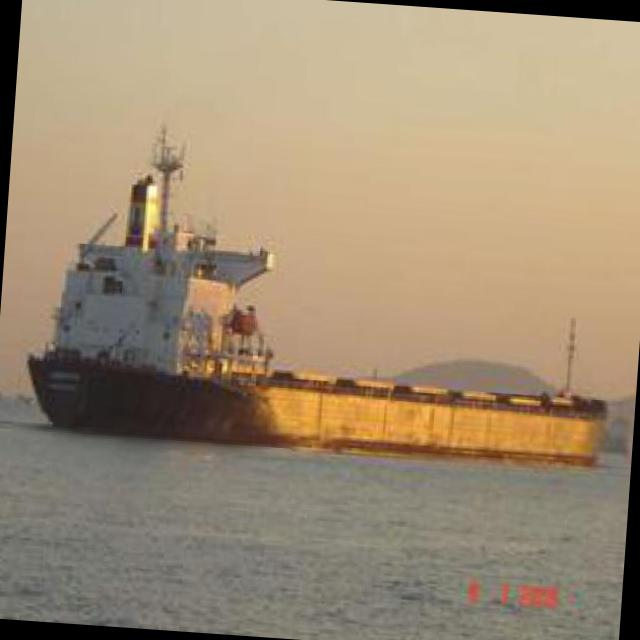boat: (18, 191, 620, 474)
